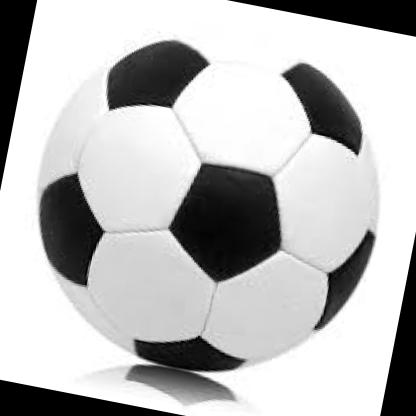ball: (6, 3, 410, 401)
